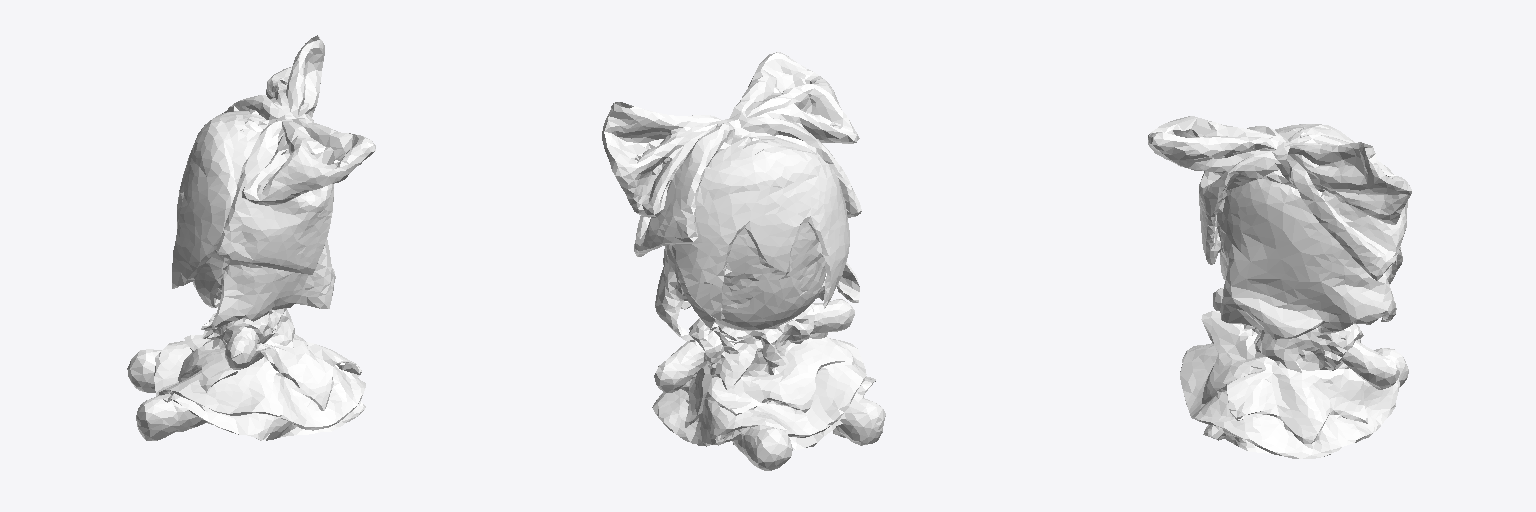
File: cirno_fumo_3d_scan.obj
3 renders of one model, left to right at view 1: azimuth 30°, elevation 25°; view 2: azimuth 150°, elevation 25°; view 3: azimuth 270°, elevation 25°, orthographic.
Parts seen in each view (by area): view 1: obj1; view 2: obj1; view 3: obj1.
Boxes of the visible parts, x1,y1,x2,y2 form: obj1: [127, 35, 375, 440]; obj1: [602, 52, 885, 470]; obj1: [1148, 116, 1411, 458].
Bounding box in the file's own units: 22.54 × 29.94 × 22.31.